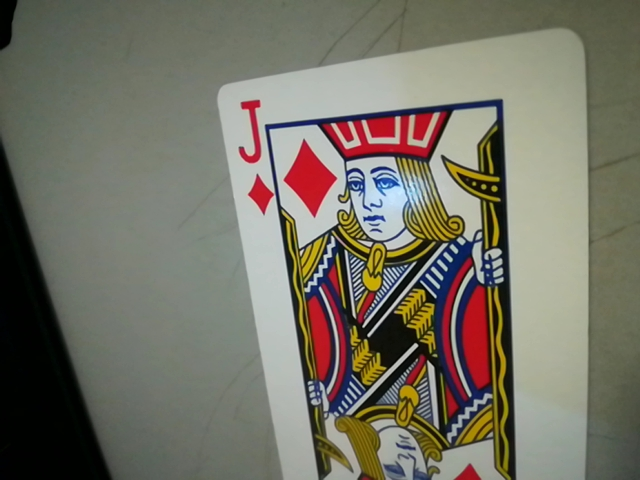fk j: (225, 92, 276, 216)
